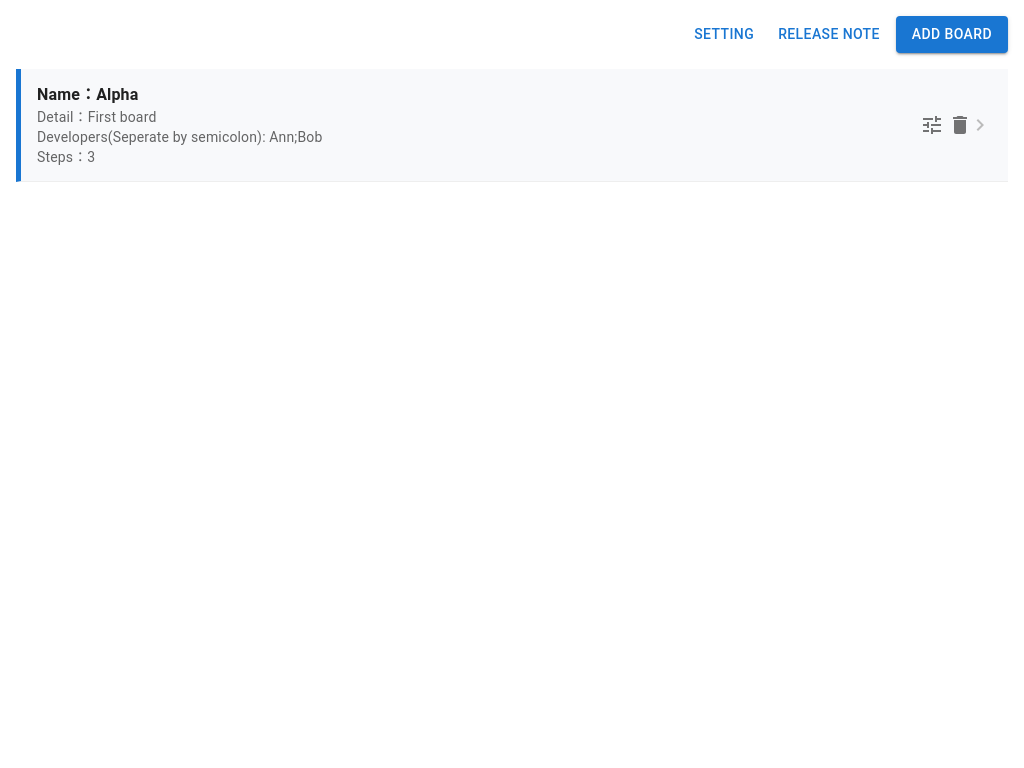
delete failure surfaces the localized error and keeps the confirm dialog open
Step 1. Click the button with test id "board-row-delete-b-1" → (960, 124), box [940,104,980,144]
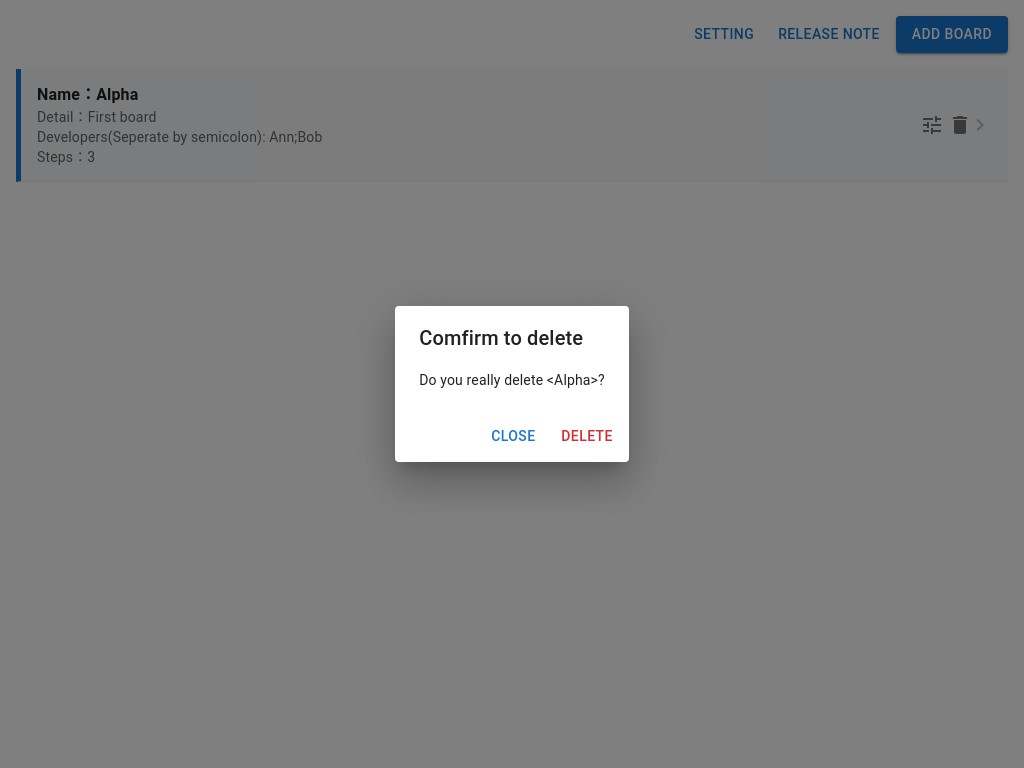
Step 2. Click the button with test id "confirm-delete-button" → (587, 436), box [553,418,621,454]
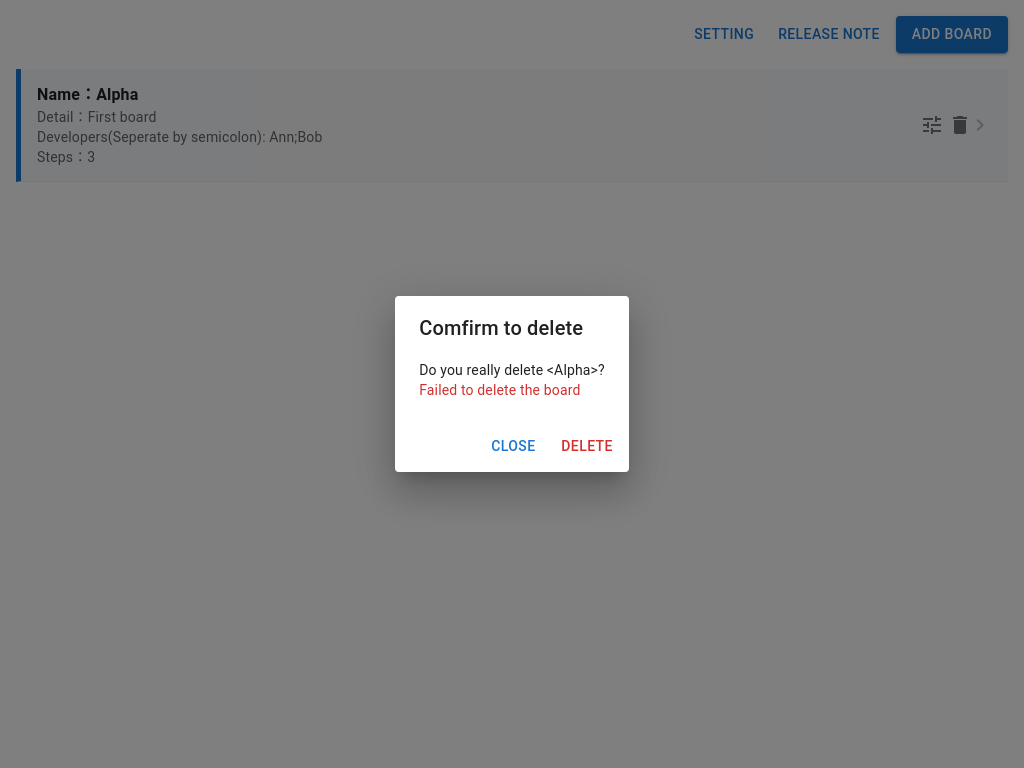
Expected: the list item with test id "board-row-b-1" is shown, [16,68,1008,182]
Result: the button with test id "confirm-delete-button" is shown at [553,428,621,464]
Result: the text with test id "board-delete-error" reads "Failed to delete the board" at [419,382,580,398]
